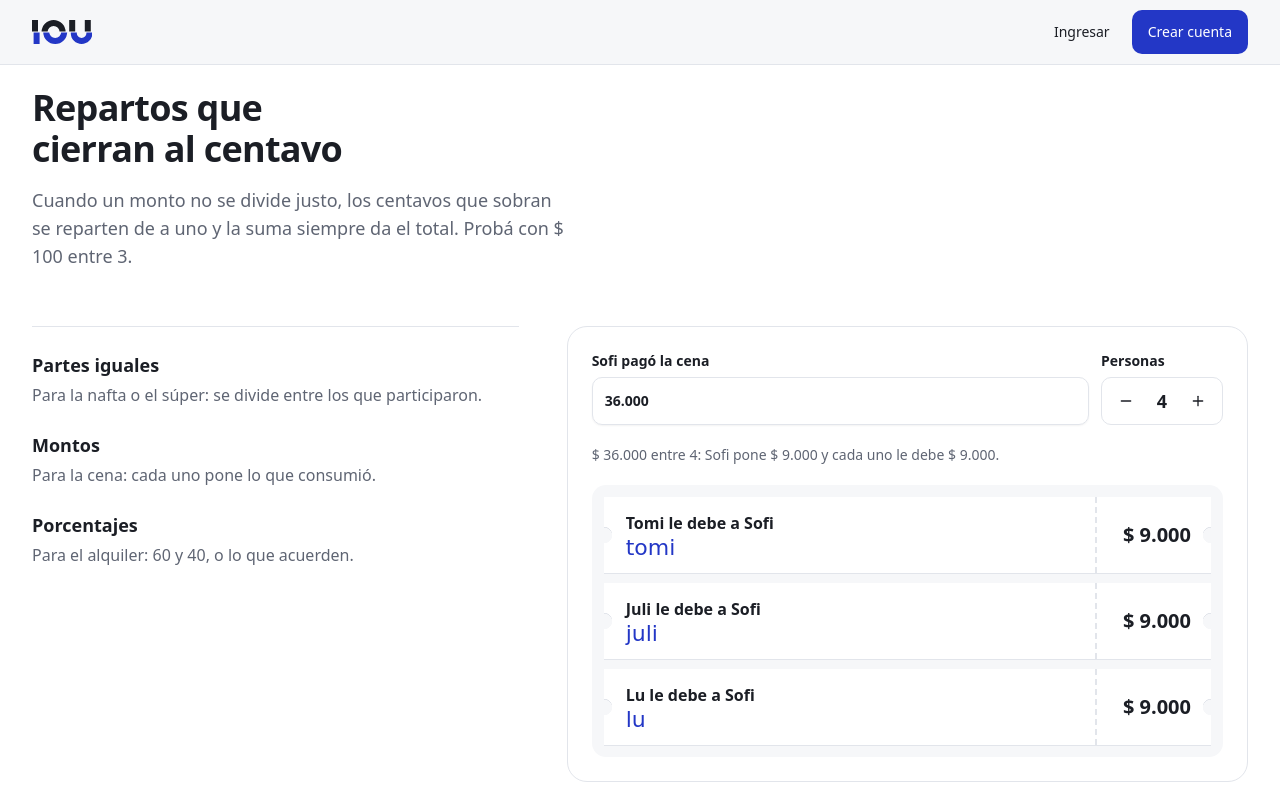
Test: la demo usa el reparto con redondeo de la spec
(page scrolled)
Replace the text in the field labelled "Sofi pagó la cena" with "100" at coordinates (840, 401), box [592,377,1089,425]
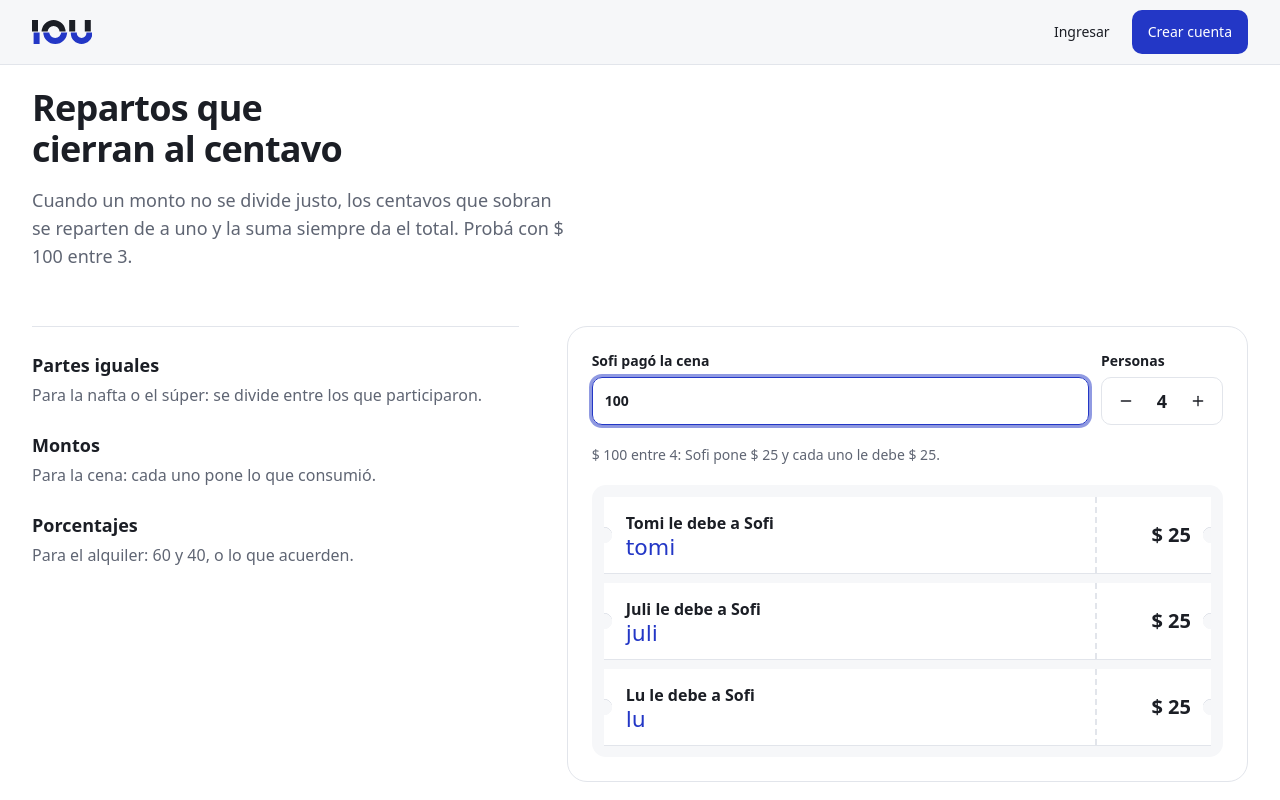
Click the button named "Una persona menos" at coordinates (1126, 401), box [1104,379,1148,423]
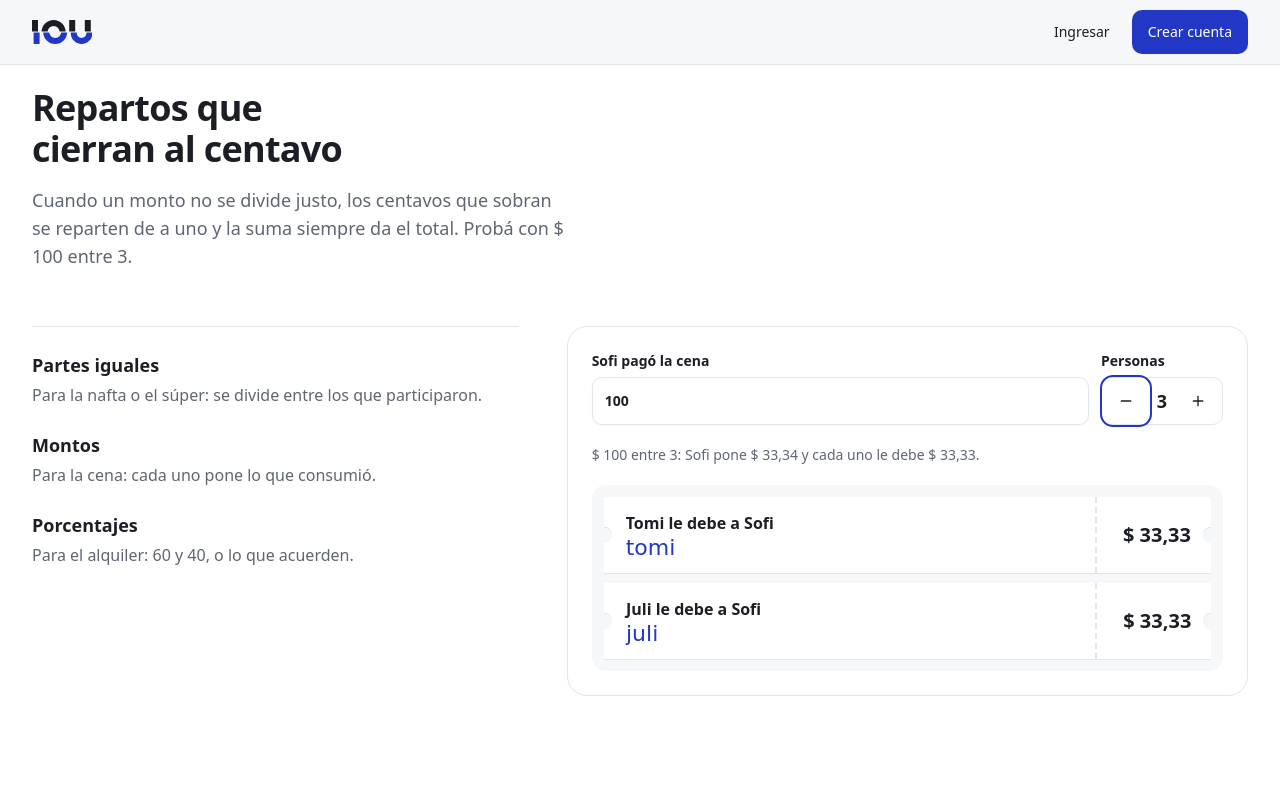
expect the element with test id "vale" shows "$ 33,33": met, box [1123,521,1191,548]
